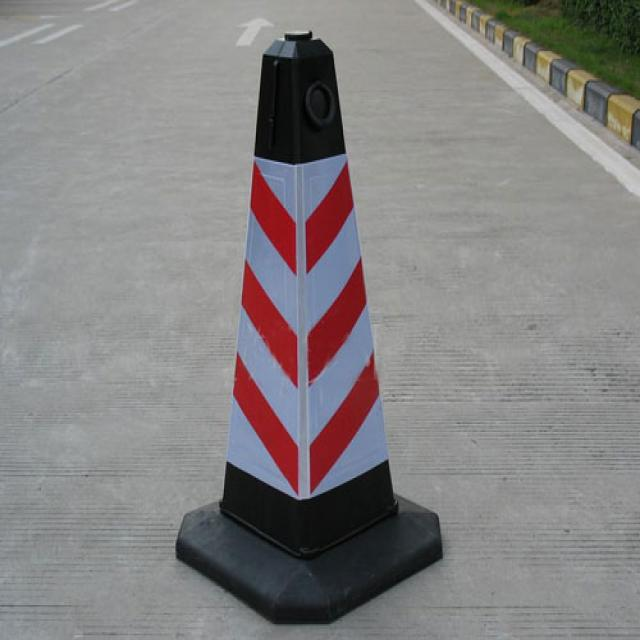reflective_cone: (166, 25, 444, 621)
